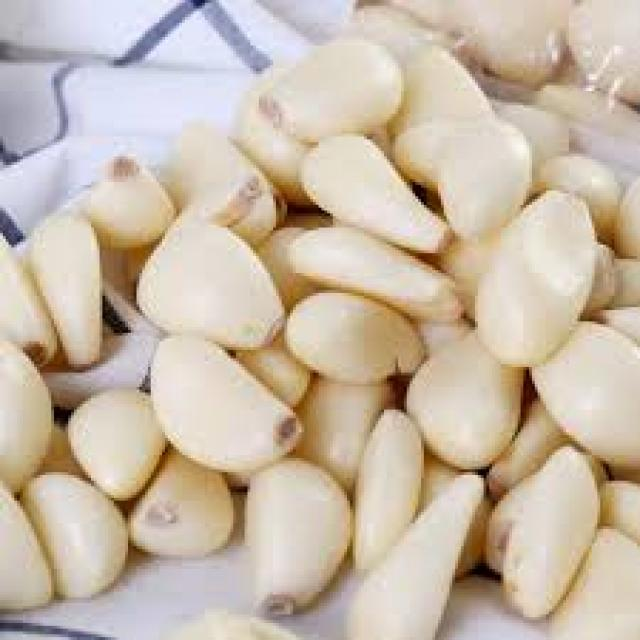garlic: (0, 222, 356, 603), (296, 127, 637, 516)
